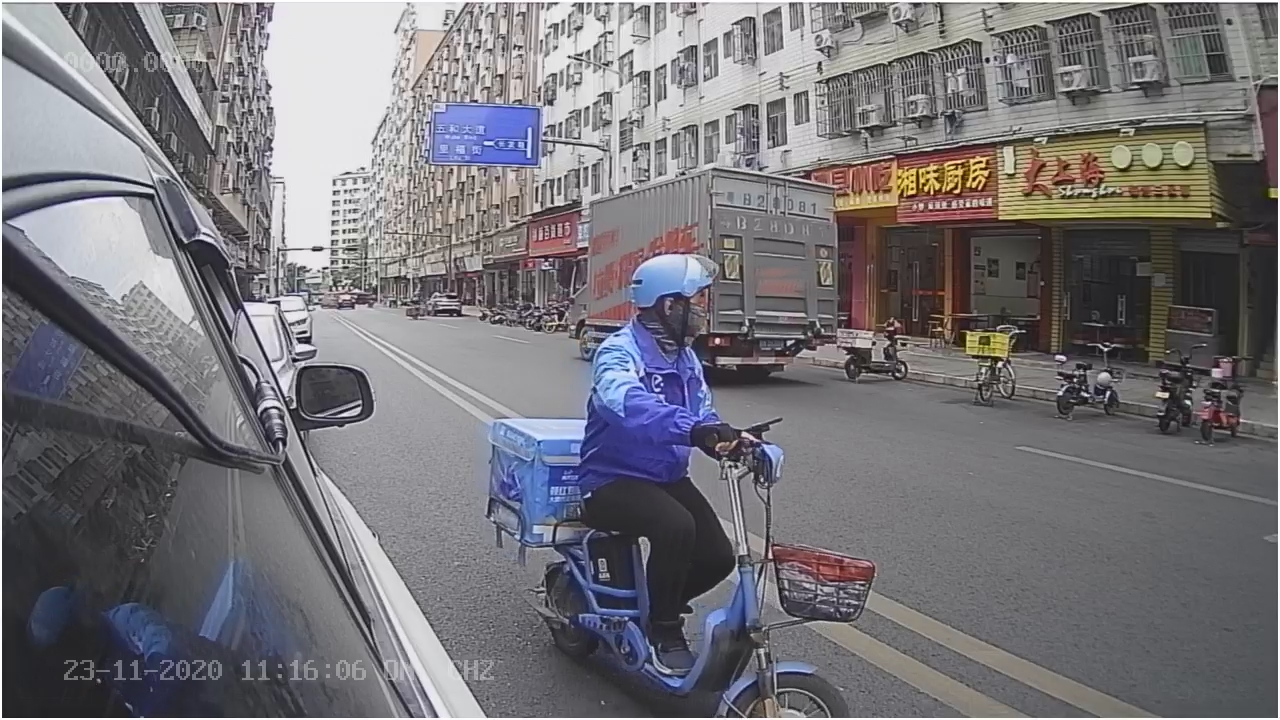person: (579, 249, 738, 426)
